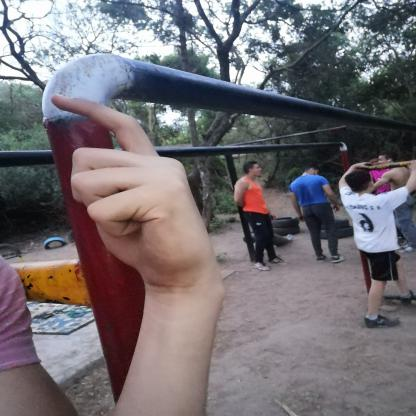RAA: (40, 82, 230, 297)
